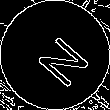N_NW: (23, 23, 87, 87)
